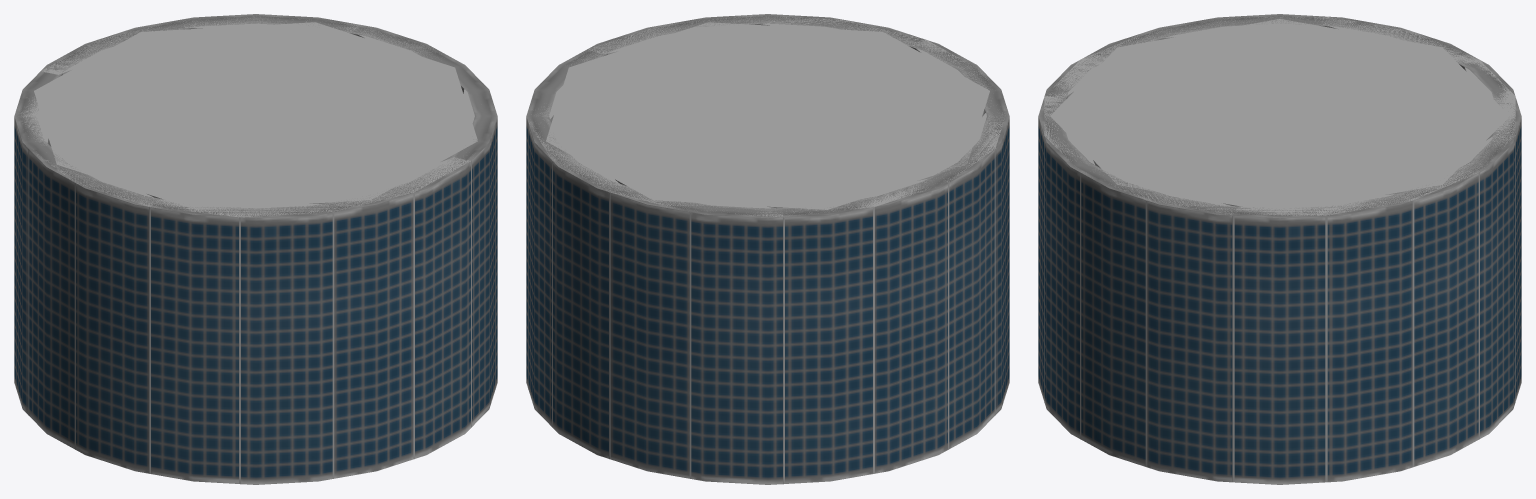
The model's file is Pioneer6_SM.fbx.
3 renders of one model, left to right at view 1: azimuth 30°, elevation 25°; view 2: azimuth 150°, elevation 25°; view 3: azimuth 270°, elevation 25°, orthographic.
Visible parts, largest first — view 1: Pioneer6_SM, pCylinder38, pCylinder18, pCylinder37, pCylinder30, pCylinder36, pCylinder34, pCylinder31, pCylinder35, pCylinder33; view 2: Pioneer6_SM, pCylinder38, pCylinder18, pCylinder34, pCylinder35, pCylinder36, pCylinder33, pCylinder31, pCylinder30, pCylinder37; view 3: Pioneer6_SM, pCylinder38, pCylinder18, pCylinder32, pCylinder33, pCylinder31, pCylinder35, pCylinder30, pCylinder37, pCylinder34.
Boxes of the visible parts, x1=… form: Pioneer6_SM: x1=14, y1=117, x2=497, y2=484; pCylinder38: x1=34, y1=22, x2=477, y2=209; pCylinder18: x1=14, y1=14, x2=497, y2=218; pCylinder37: x1=149, y1=199, x2=333, y2=484; pCylinder30: x1=327, y1=157, x2=471, y2=478; pCylinder36: x1=28, y1=149, x2=157, y2=473; pCylinder34: x1=41, y1=21, x2=182, y2=74; pCylinder31: x1=463, y1=89, x2=495, y2=427; pCylinder35: x1=20, y1=96, x2=48, y2=145; pCylinder33: x1=183, y1=14, x2=361, y2=32; Pioneer6_SM: x1=526, y1=116, x2=1009, y2=484; pCylinder38: x1=546, y1=22, x2=989, y2=209; pCylinder18: x1=526, y1=14, x2=1009, y2=218; pCylinder34: x1=609, y1=186, x2=783, y2=484; pCylinder35: x1=783, y1=177, x2=948, y2=483; pCylinder36: x1=939, y1=111, x2=1005, y2=449; pCylinder33: x1=528, y1=123, x2=621, y2=458; pCylinder31: x1=587, y1=15, x2=752, y2=54; pCylinder30: x1=752, y1=14, x2=925, y2=45; pCylinder37: x1=914, y1=40, x2=991, y2=108; Pioneer6_SM: x1=1038, y1=116, x2=1521, y2=484; pCylinder38: x1=1050, y1=19, x2=1509, y2=212; pCylinder18: x1=1038, y1=14, x2=1521, y2=218; pCylinder32: x1=1233, y1=193, x2=1413, y2=482; pCylinder33: x1=1403, y1=134, x2=1515, y2=466; pCylinder31: x1=1080, y1=168, x2=1236, y2=482; pCylinder35: x1=1323, y1=16, x2=1479, y2=64; pCylinder30: x1=1044, y1=96, x2=1094, y2=438; pCylinder37: x1=1044, y1=32, x2=1156, y2=97; pCylinder34: x1=1464, y1=59, x2=1515, y2=135.
Size of the model in its own units: 0.6567 by 0.4 by 0.6567.
2 materials, 1 textured.
